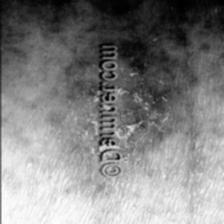Non-Cancerous Skin Condition: (124, 25, 224, 185), (19, 8, 86, 168)
